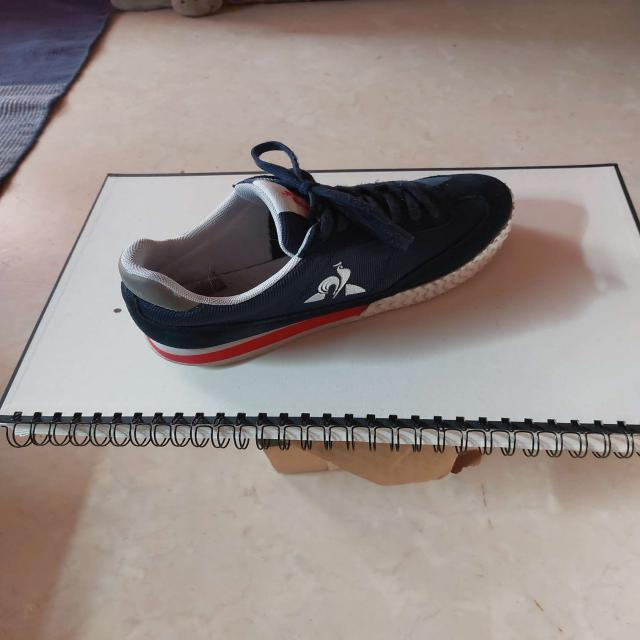shoes: (116, 170, 519, 370)
